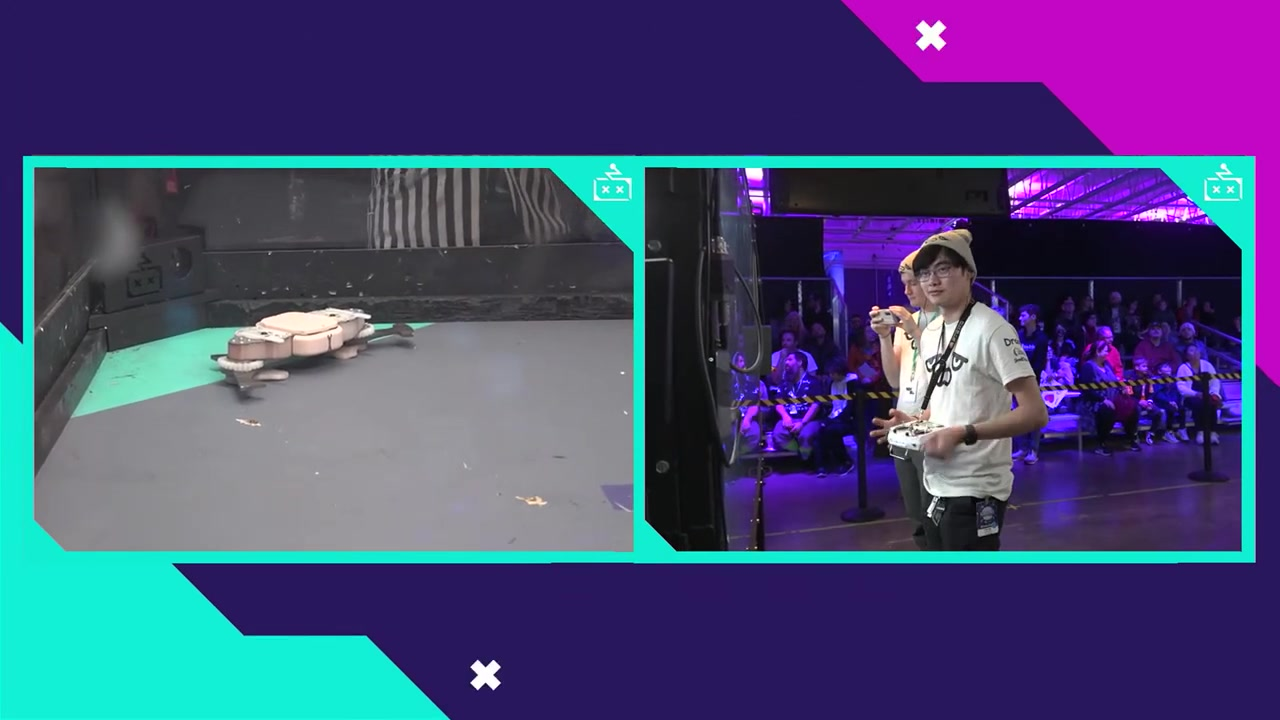combatbot: (228, 308, 373, 360)
